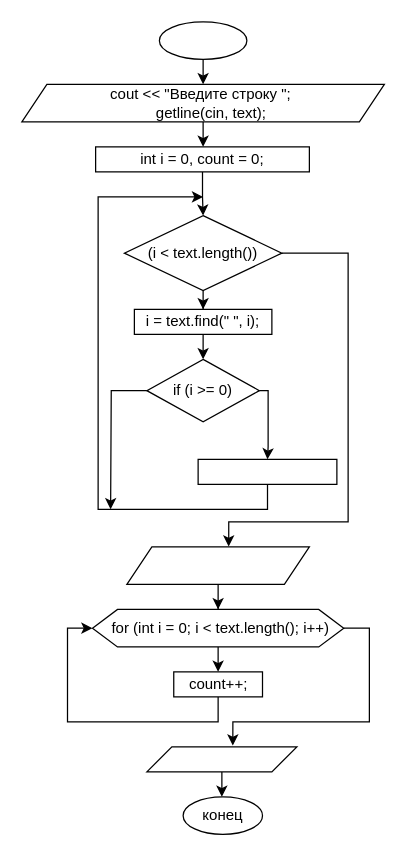
Image size: 406x856. Some labels were removed from this diagram. The centre of each missing label's shape, as x and y in pixels:
cout << count;: (x=221, y=759)
cout << text << endl;: (x=217, y=565)
text.erase(i, 1);: (x=267, y=471)
начало: (x=202, y=40)
